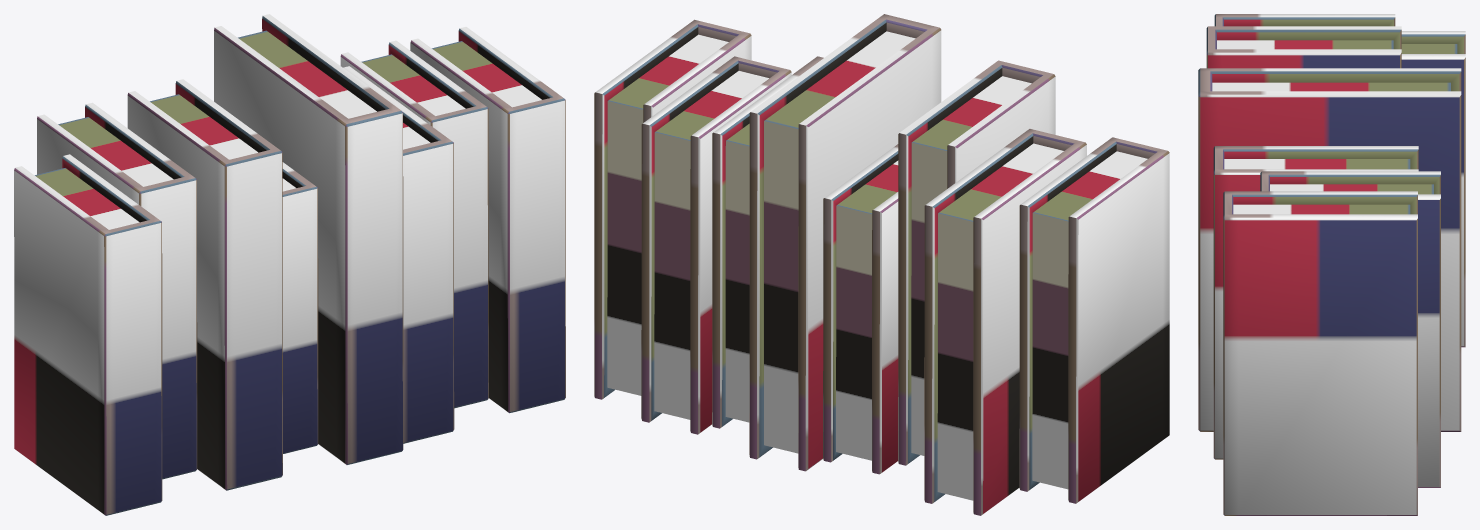
The model's file is SM_Livre_4.fbx.
3 views of the same model, side by side, from view 1: azimuth 30°, elevation 25°; view 2: azimuth 150°, elevation 25°; view 3: azimuth 270°, elevation 25° (orthographic). The views are drawn at different scales.
Parts seen in each view (by area): view 1: SM_Livre_1_LP; view 2: SM_Livre_1_LP; view 3: SM_Livre_1_LP.
Boxes of the visible parts, x1,y1,x2,y2 form: SM_Livre_1_LP: (14, 14, 565, 515); SM_Livre_1_LP: (594, 14, 1169, 515); SM_Livre_1_LP: (1198, 14, 1465, 515).
Bounding box in the file's own units: 35.67 × 24.95 × 17.91.
